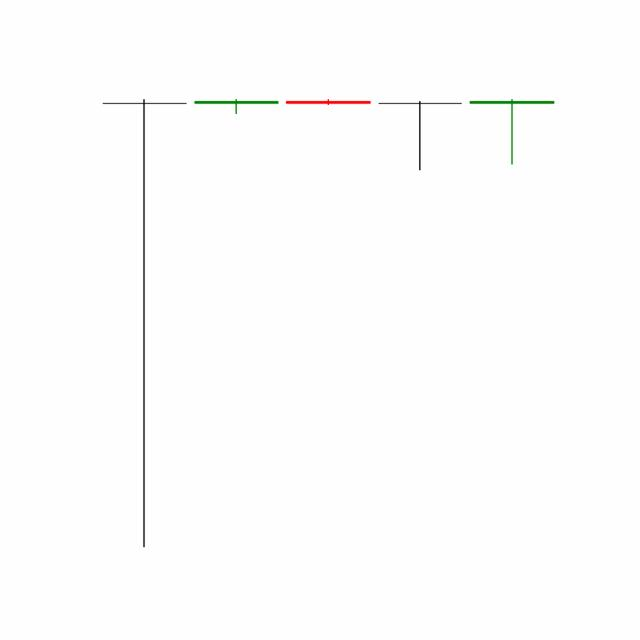Dragonfly Doji: (373, 100, 467, 171)
